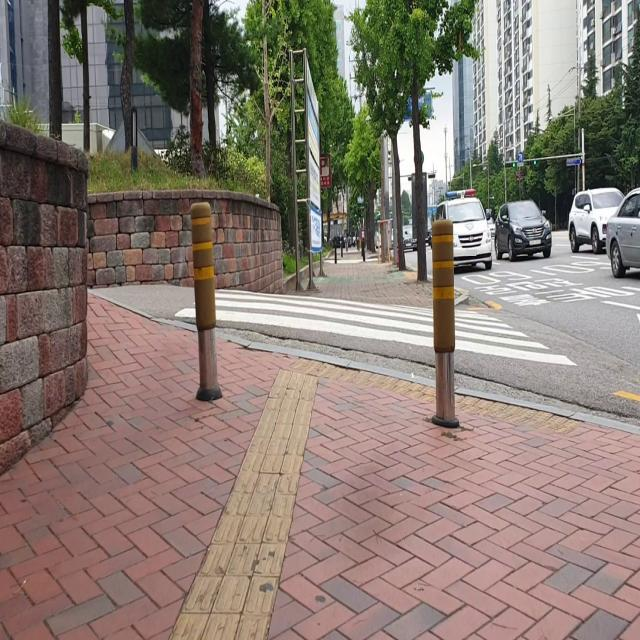횡단보도: (174, 288, 578, 367)
